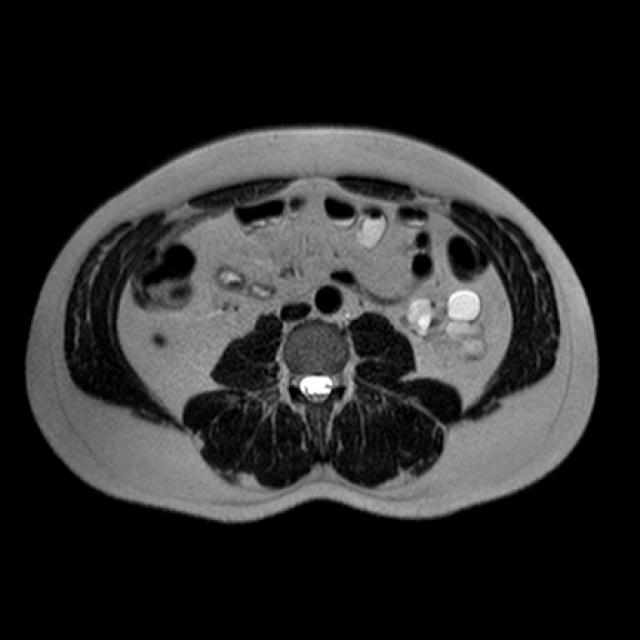sol: (398, 289, 490, 363)
